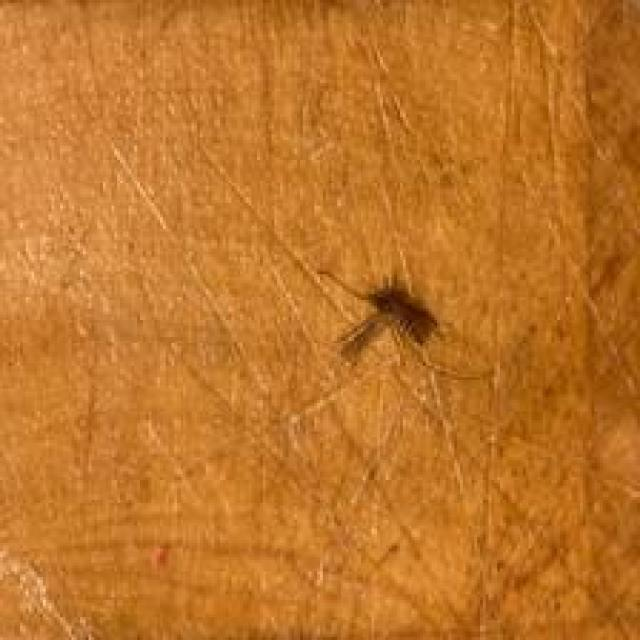Culex: (314, 264, 494, 384)
